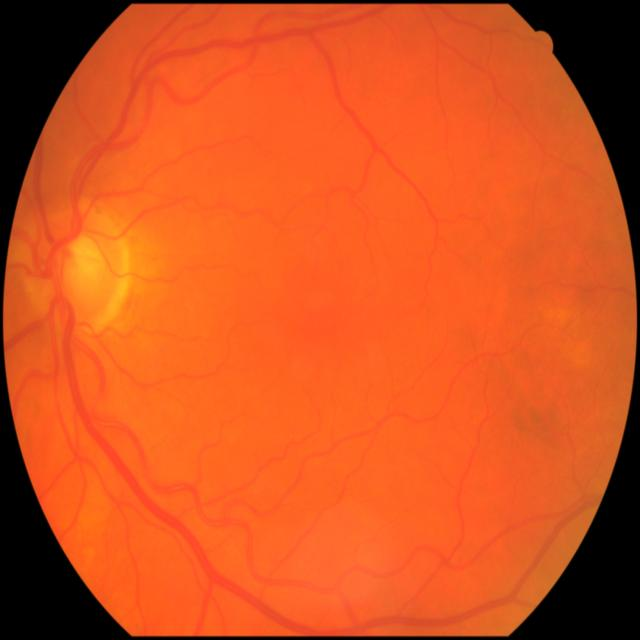OC: (59, 236, 104, 293)
OD: (22, 203, 130, 335)
